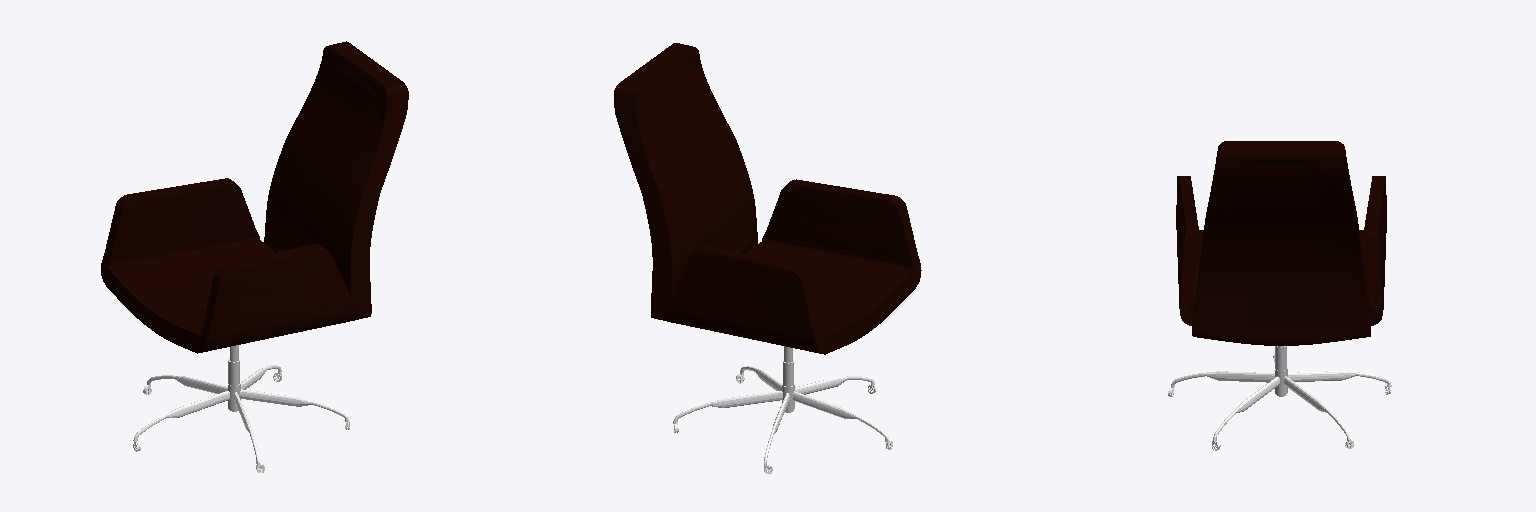
File: Chair.obj
3 views of the same model, side by side, from view 1: azimuth 30°, elevation 25°; view 2: azimuth 150°, elevation 25°; view 3: azimuth 270°, elevation 25° (orthographic).
Parts seen in each view (by area): view 1: Plane_Plane.001, Circle.001_Circle.003, Circle_Circle.002; view 2: Plane_Plane.001, Circle.001_Circle.003, Circle_Circle.002; view 3: Plane_Plane.001, Circle.001_Circle.003, Circle_Circle.002.
Part boxes in pixels (left/top/right/bottom): Plane_Plane.001: left=101, top=41, right=408, bottom=353; Circle.001_Circle.003: left=133, top=365, right=348, bottom=464; Circle_Circle.002: left=228, top=345, right=240, bottom=411; Plane_Plane.001: left=614, top=43, right=921, bottom=354; Circle.001_Circle.003: left=673, top=366, right=889, bottom=465; Circle_Circle.002: left=782, top=346, right=794, bottom=412; Plane_Plane.001: left=1176, top=141, right=1386, bottom=345; Circle.001_Circle.003: left=1171, top=371, right=1391, bottom=441; Circle_Circle.002: left=1275, top=346, right=1287, bottom=396.
Size of the model in its own units: 0.7775 by 1 by 0.6176.